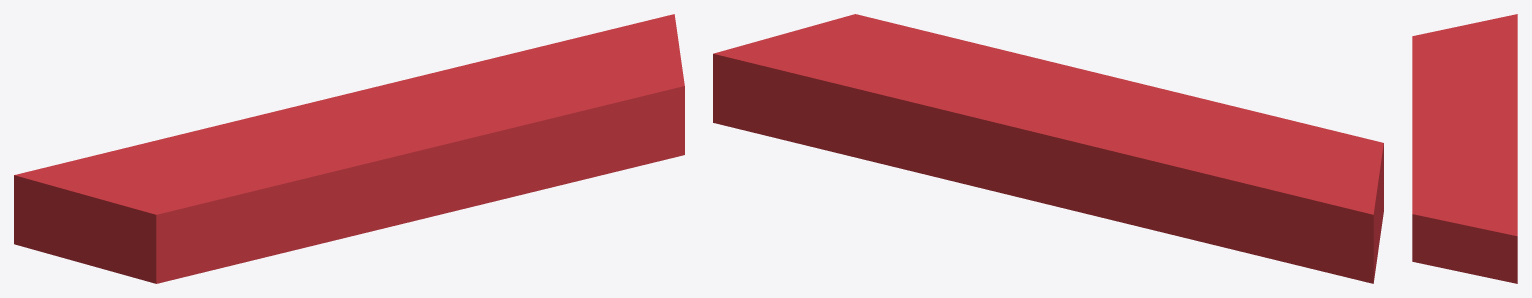
Rendered from bay_roof_2.glb.
3 renders of one model, left to right at view 1: azimuth 30°, elevation 25°; view 2: azimuth 150°, elevation 25°; view 3: azimuth 270°, elevation 25°, orthographic. The views are drawn at different scales.
Visible parts, largest first — view 1: bay_roof_2; view 2: bay_roof_2; view 3: bay_roof_2.
Boxes of the visible parts, x1,y1,x2,y2 form: bay_roof_2: (14, 14, 684, 283); bay_roof_2: (713, 14, 1383, 283); bay_roof_2: (1412, 14, 1517, 283).
Size of the model in its own units: 1 by 0.1 by 0.2.
